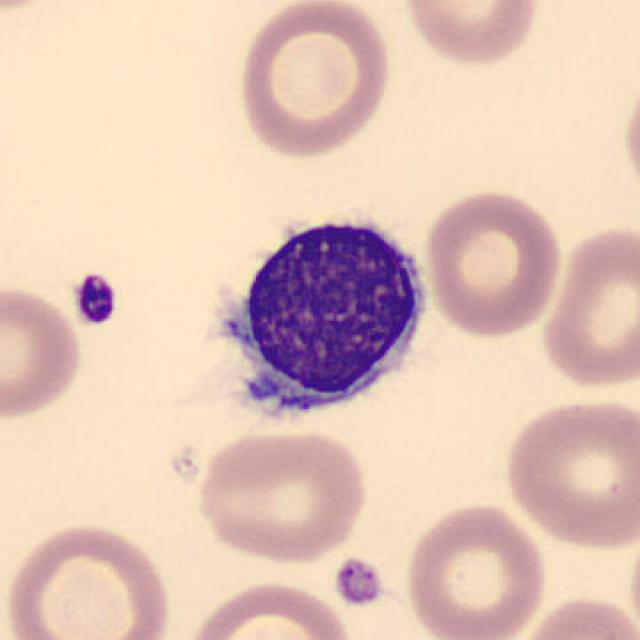Lymphocyte: (192, 198, 443, 438)
Platelets: (330, 555, 386, 610), (69, 270, 121, 328)
RBC: (233, 0, 396, 162), (192, 425, 372, 564), (420, 185, 566, 340), (500, 393, 638, 552), (0, 518, 176, 640), (400, 499, 549, 640), (535, 220, 638, 394), (0, 279, 87, 423), (183, 576, 355, 640), (396, 0, 544, 69), (510, 592, 638, 640), (618, 63, 640, 206)
